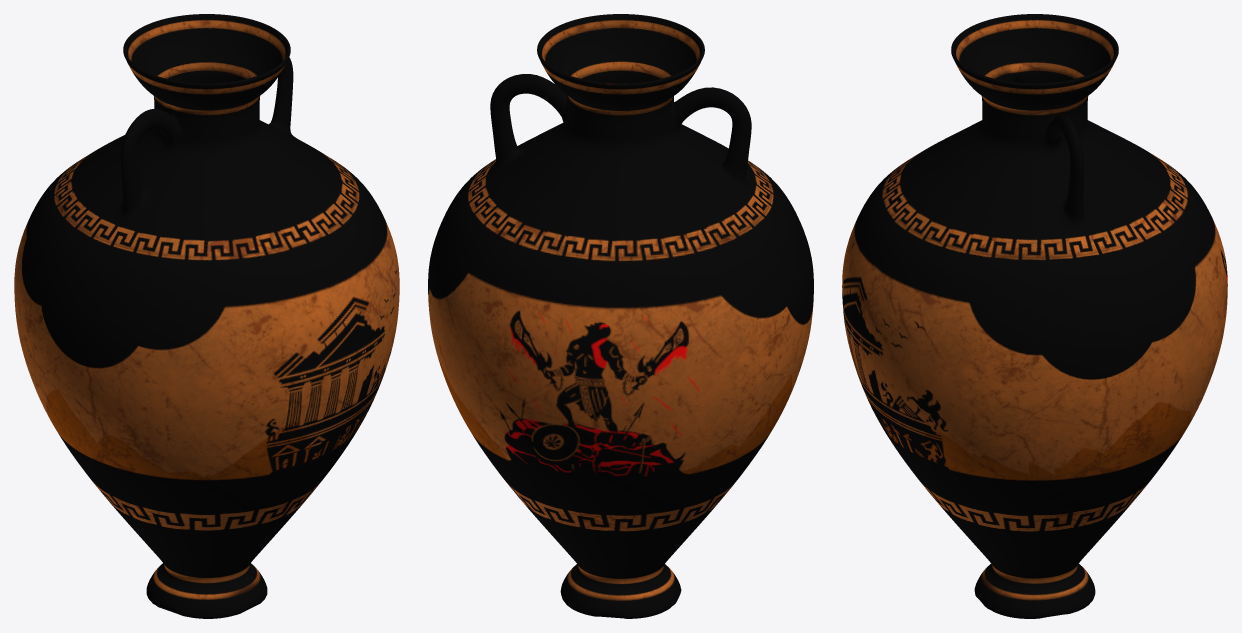
The model's file is kratos_amphora_-_god_of_war_2018.glb.
The picture shows the model from 3 angles, left to right: view 1: azimuth 30°, elevation 25°; view 2: azimuth 150°, elevation 25°; view 3: azimuth 270°, elevation 25°; orthographic projection.
Parts seen in each view (by area): view 1: KratosSideUV; view 2: KratosSideUV; view 3: KratosSideUV.
Part boxes in pixels (left/top/right/bottom): KratosSideUV: left=14, top=14, right=399, bottom=618; KratosSideUV: left=428, top=14, right=813, bottom=618; KratosSideUV: left=842, top=14, right=1227, bottom=618.
Bounding box in the file's own units: 0.7661 × 1.2 × 0.7661.
Materials: 1 (1 with a texture image).
